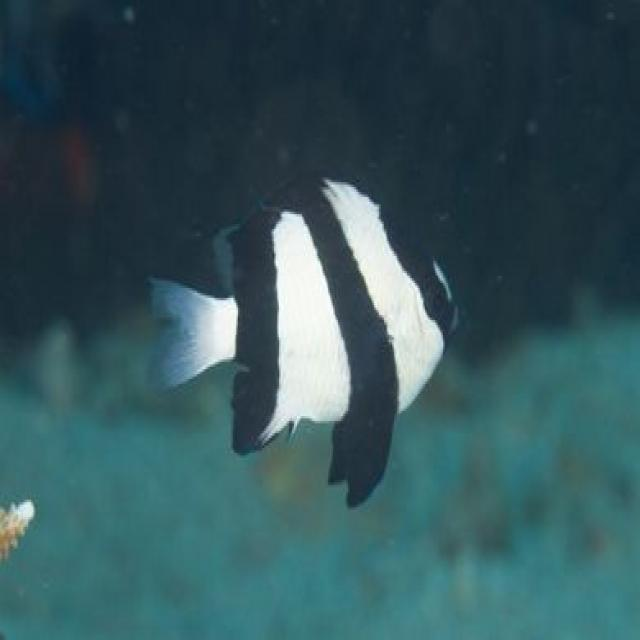Three_striped DasmselFish: (144, 179, 457, 527)
